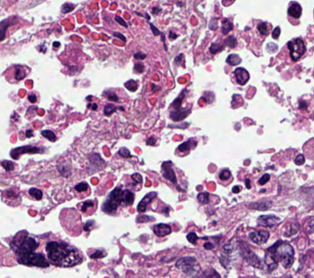nucleus: (102, 187, 123, 213), (10, 145, 43, 159), (0, 16, 17, 40), (137, 192, 156, 212), (161, 161, 176, 184), (170, 89, 185, 109), (89, 153, 104, 172), (170, 107, 189, 121), (249, 230, 268, 244), (234, 67, 249, 84), (257, 215, 279, 226), (153, 223, 171, 236), (177, 139, 196, 151), (249, 201, 271, 210), (57, 162, 70, 176), (103, 103, 117, 115), (221, 19, 232, 34), (103, 90, 118, 101), (114, 15, 127, 27), (124, 79, 137, 91), (226, 54, 240, 65), (14, 66, 25, 80), (41, 130, 55, 141), (28, 188, 42, 199), (257, 22, 268, 35), (209, 43, 223, 53), (124, 189, 133, 204), (150, 23, 161, 35), (61, 3, 74, 13), (225, 36, 236, 47), (219, 169, 230, 180), (197, 192, 208, 203), (113, 32, 125, 42), (168, 122, 188, 128), (118, 147, 130, 157), (1, 160, 13, 170), (81, 201, 93, 211), (136, 215, 153, 222), (134, 62, 144, 73), (258, 174, 269, 184), (187, 232, 197, 243), (75, 182, 87, 191), (131, 173, 141, 183), (266, 43, 277, 52), (209, 18, 217, 30), (84, 221, 93, 231), (134, 52, 146, 59), (174, 54, 183, 63), (146, 136, 155, 145), (272, 27, 279, 38), (151, 6, 160, 14), (28, 93, 36, 102), (87, 103, 97, 110), (169, 31, 177, 39), (204, 242, 213, 249), (11, 112, 18, 120), (25, 129, 32, 137), (232, 186, 240, 193), (245, 179, 250, 188), (53, 41, 59, 48), (145, 14, 149, 19), (86, 96, 92, 99)
